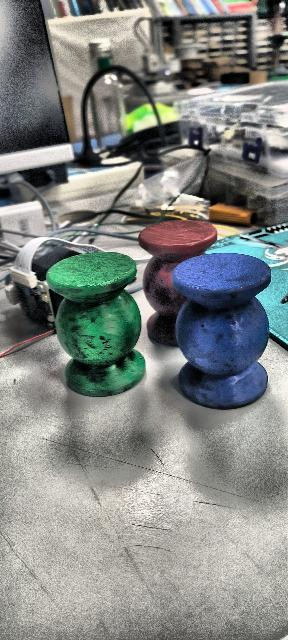blue: (171, 252, 271, 408)
green: (36, 249, 145, 398)
red: (134, 215, 232, 346)
